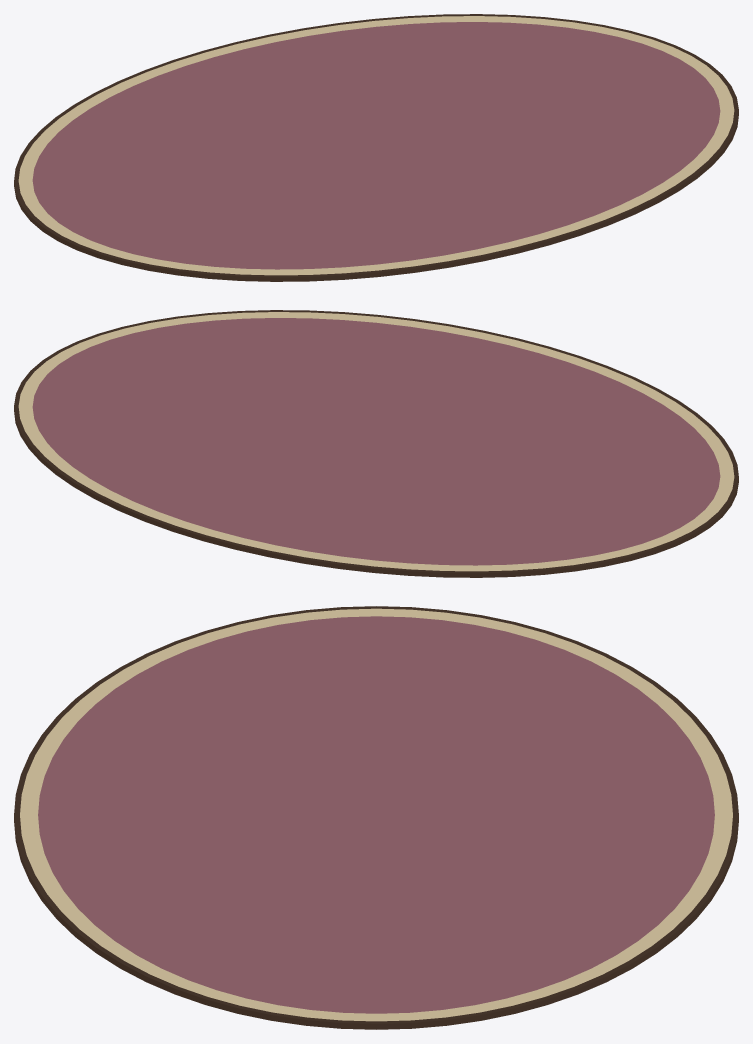
Rendered from library-oval-rug.glb.
The picture shows the model from 3 angles, top to bottom: view 1: azimuth 30°, elevation 25°; view 2: azimuth 150°, elevation 25°; view 3: azimuth 270°, elevation 25°; orthographic projection. The views are drawn at different scales.
Parts seen in each view (by area): view 1: library-oval-rug; view 2: library-oval-rug; view 3: library-oval-rug.
Boxes of the visible parts, x1=… form: library-oval-rug: x1=14, y1=14, x2=738, y2=281; library-oval-rug: x1=14, y1=310, x2=738, y2=577; library-oval-rug: x1=14, y1=606, x2=738, y2=1029.
Size of the model in its own units: 3 by 0.0196 by 2.2.
